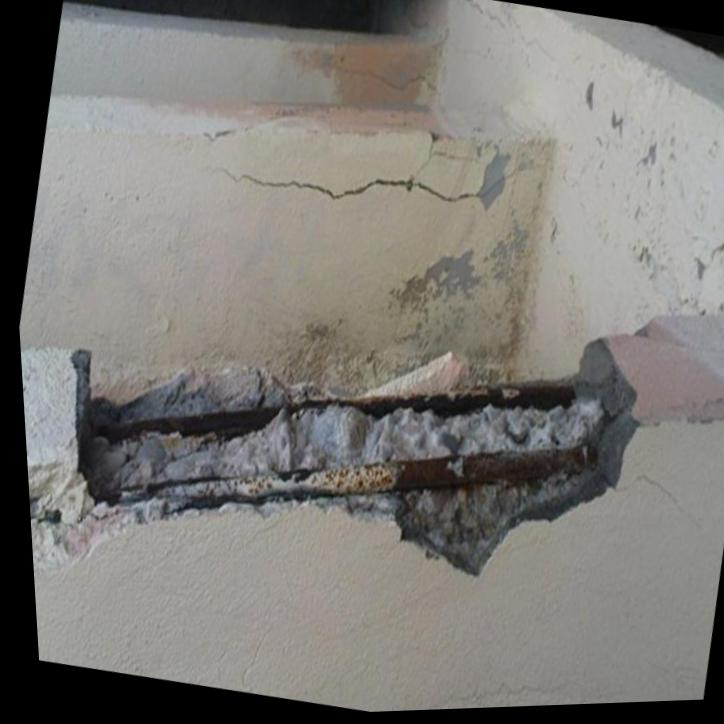crack: (213, 166, 518, 207), (605, 480, 699, 538), (201, 110, 298, 144), (410, 134, 476, 183), (334, 67, 437, 97), (645, 339, 723, 361), (463, 0, 506, 35), (693, 246, 724, 286), (26, 492, 47, 517), (80, 511, 114, 523), (681, 422, 724, 430)
damage: (21, 346, 627, 583)
